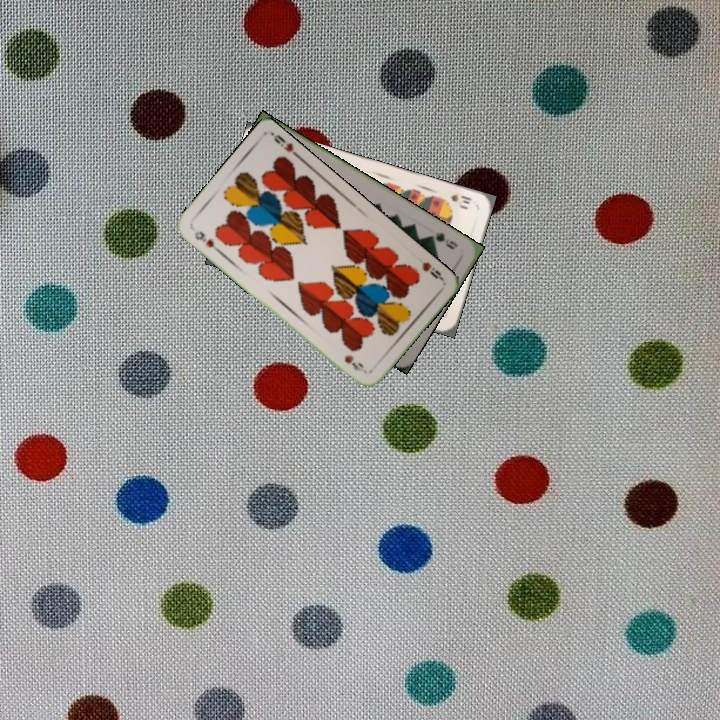G9: (424, 228, 461, 252)
H9: (190, 227, 223, 255), (418, 258, 446, 283)
S10: (446, 190, 475, 207)
